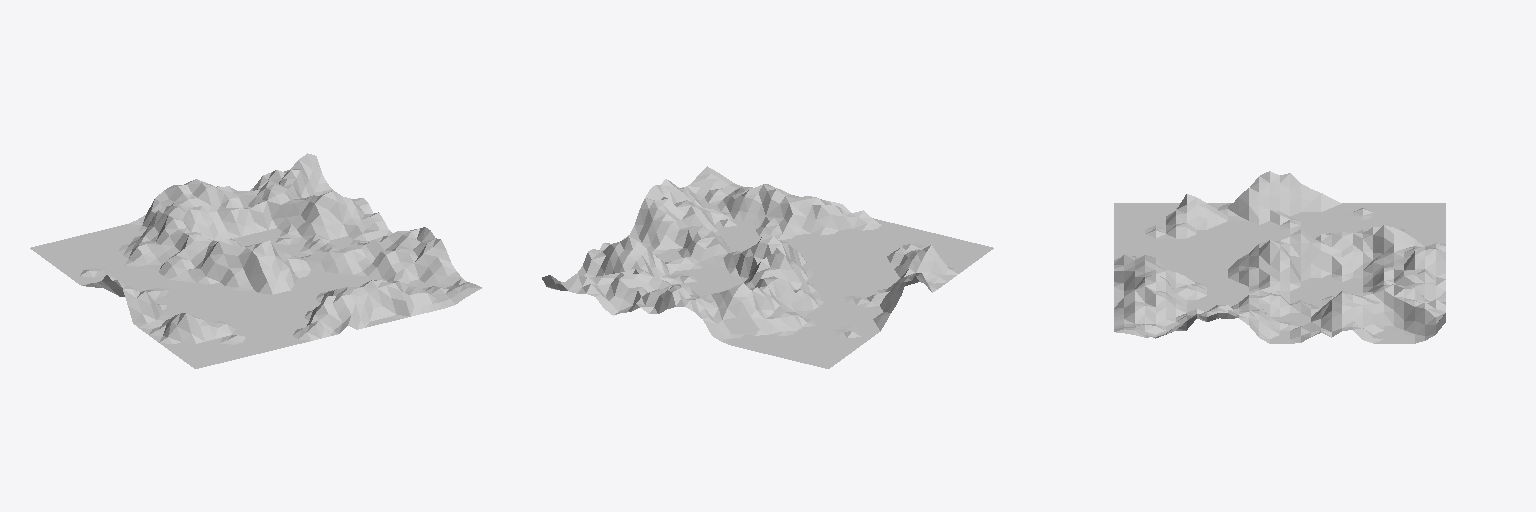
File: terrain.obj
3 renders of one model, left to right at view 1: azimuth 30°, elevation 25°; view 2: azimuth 150°, elevation 25°; view 3: azimuth 270°, elevation 25°, orthographic.
Parts seen in each view (by area): view 1: Plane; view 2: Plane; view 3: Plane.
Boxes of the visible parts, <box> form: Plane: <box>30,153,481,368</box>; Plane: <box>542,166,993,368</box>; Plane: <box>1114,171,1445,343</box>.
Bounding box in the file's own units: 39.35 × 4.61 × 39.35.